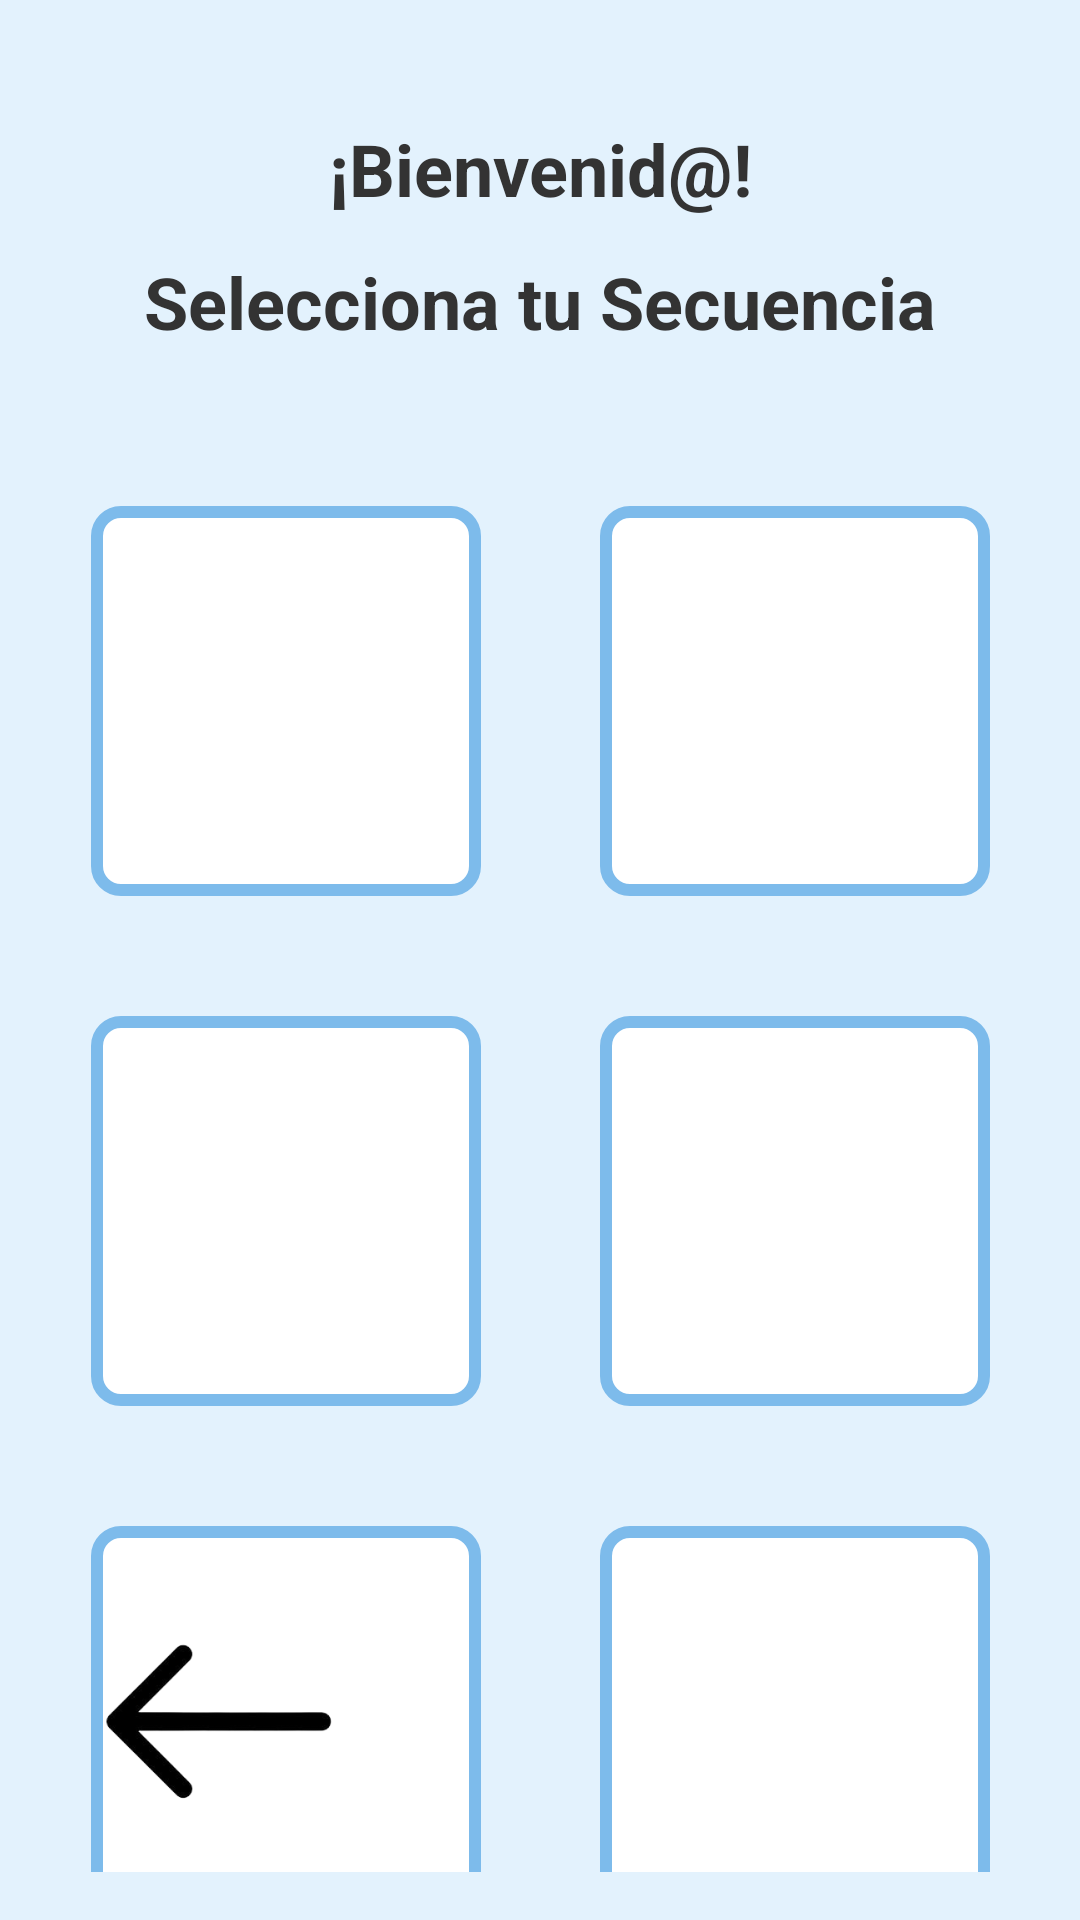

Icons on this 1080×1920 Android screen, each with the point to tap as (x,y):
arrow left: (219,1722)
